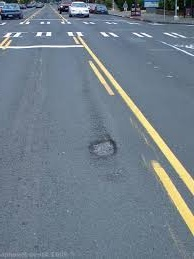pothole: (83, 130, 115, 161)
